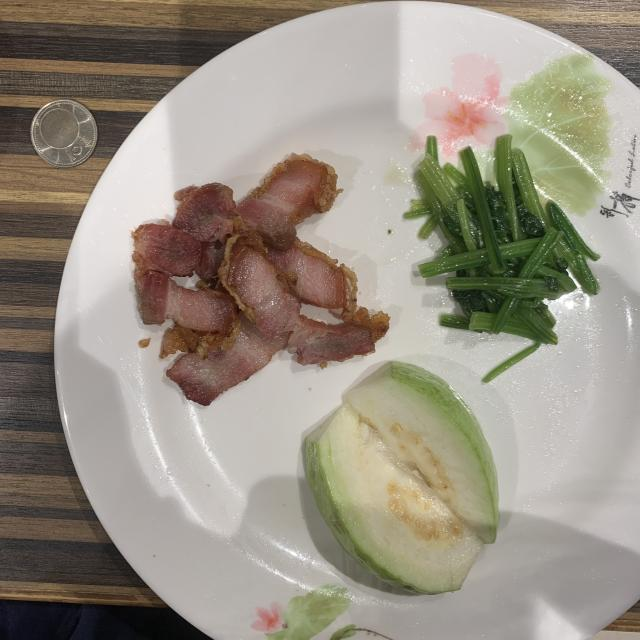coin: (31, 99, 98, 168)
guava -sliced-: (306, 361, 499, 594)
mustard greens: (404, 134, 599, 382)
red grilled pork: (132, 154, 389, 405)
